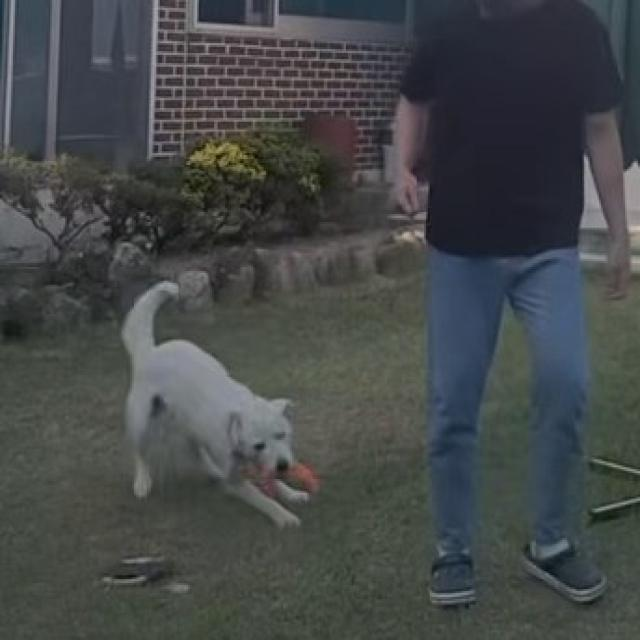Unleashed_Dog: (120, 212, 579, 531)
